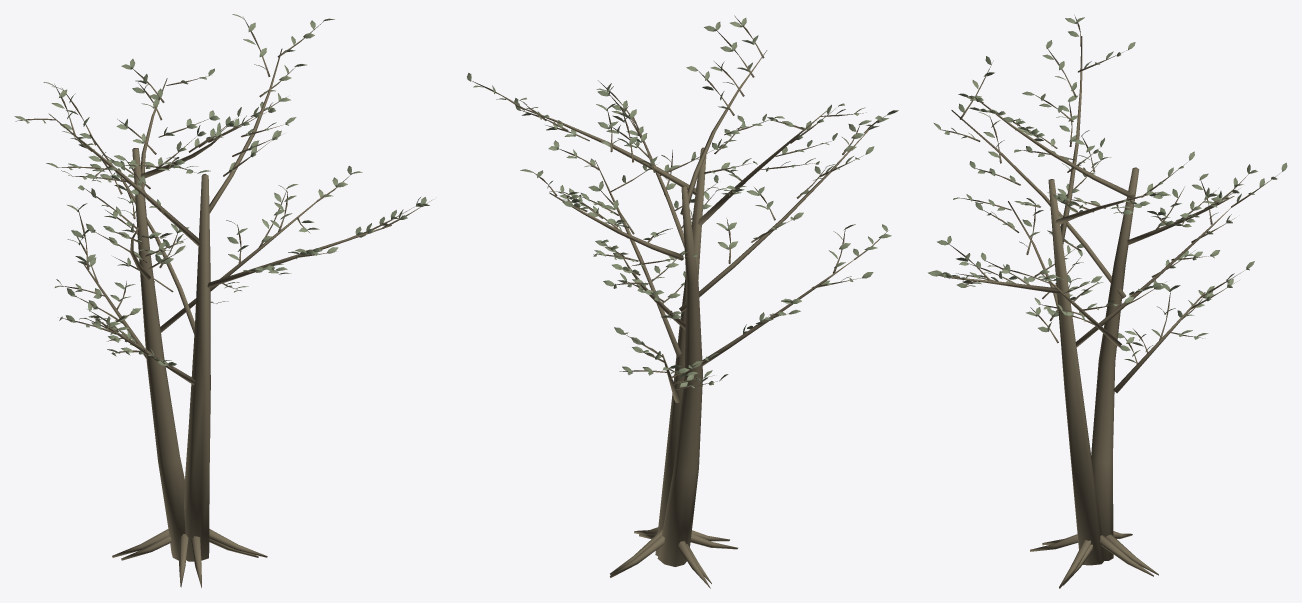
File: Oleastre_1_LOD1.fbx
The picture shows the model from 3 angles, left to right: view 1: azimuth 30°, elevation 25°; view 2: azimuth 150°, elevation 25°; view 3: azimuth 270°, elevation 25°; orthographic projection. The views are drawn at different scales.
Visible parts, largest first — view 1: Oleastre_1_LOD1; view 2: Oleastre_1_LOD1; view 3: Oleastre_1_LOD1.
Part boxes in pixels (box(x1,y1,x2,y2)): Oleastre_1_LOD1: box(14, 14, 431, 587); Oleastre_1_LOD1: box(467, 15, 898, 588); Oleastre_1_LOD1: box(928, 15, 1287, 588).
Size of the model in its own units: 338 by 445 by 308.
